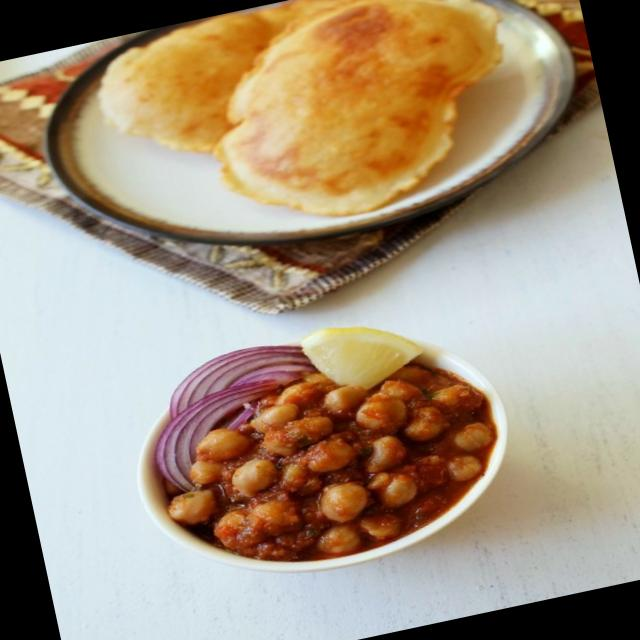Bhatura: (190, 0, 533, 241), (84, 0, 383, 172)
Chole: (146, 338, 515, 590)
